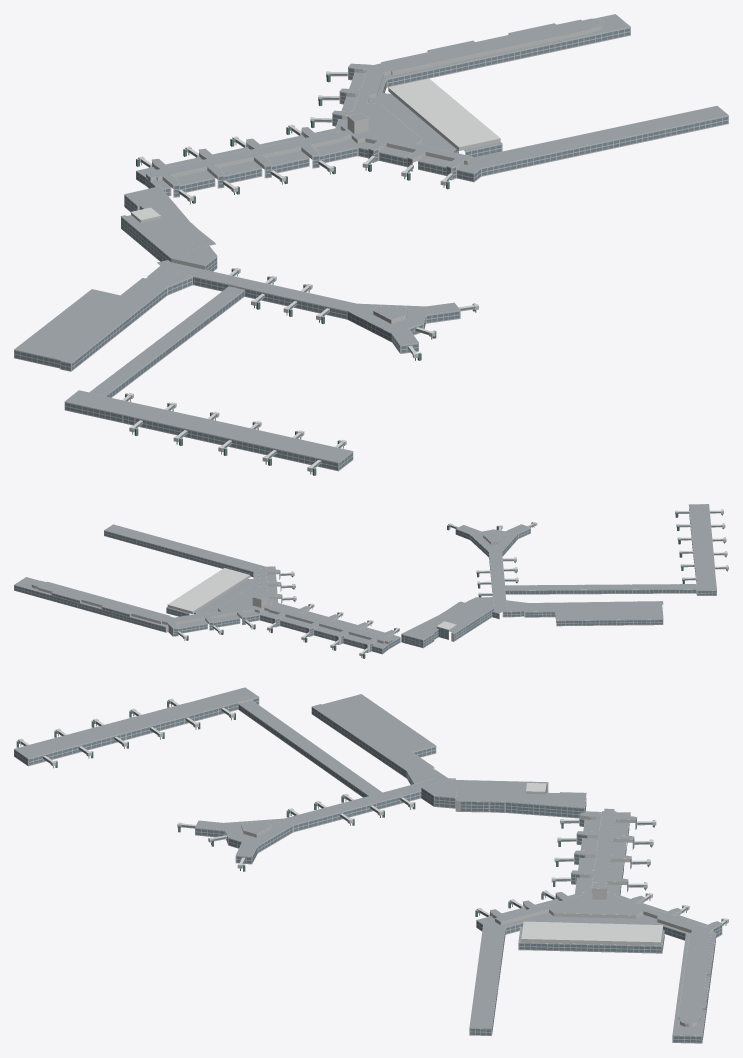
Rendered from amsterdam-schiphol-piers-b-c-d.detail.glb.
3 views of the same model, one above another, from view 1: azimuth 30°, elevation 25°; view 2: azimuth 150°, elevation 25°; view 3: azimuth 270°, elevation 25° (orthographic). The views are drawn at different scales.
Parts seen in each view (by area): view 1: Amsterdam Airport Schiphol piers B, C and D; view 2: Amsterdam Airport Schiphol piers B, C and D; view 3: Amsterdam Airport Schiphol piers B, C and D.
Part boxes in pixels (x1,y1,x2,y2): Amsterdam Airport Schiphol piers B, C and D: (14, 14, 728, 475); Amsterdam Airport Schiphol piers B, C and D: (14, 504, 728, 658); Amsterdam Airport Schiphol piers B, C and D: (14, 687, 728, 1043).
Bounding box in the file's own units: 874 × 26 × 757.
